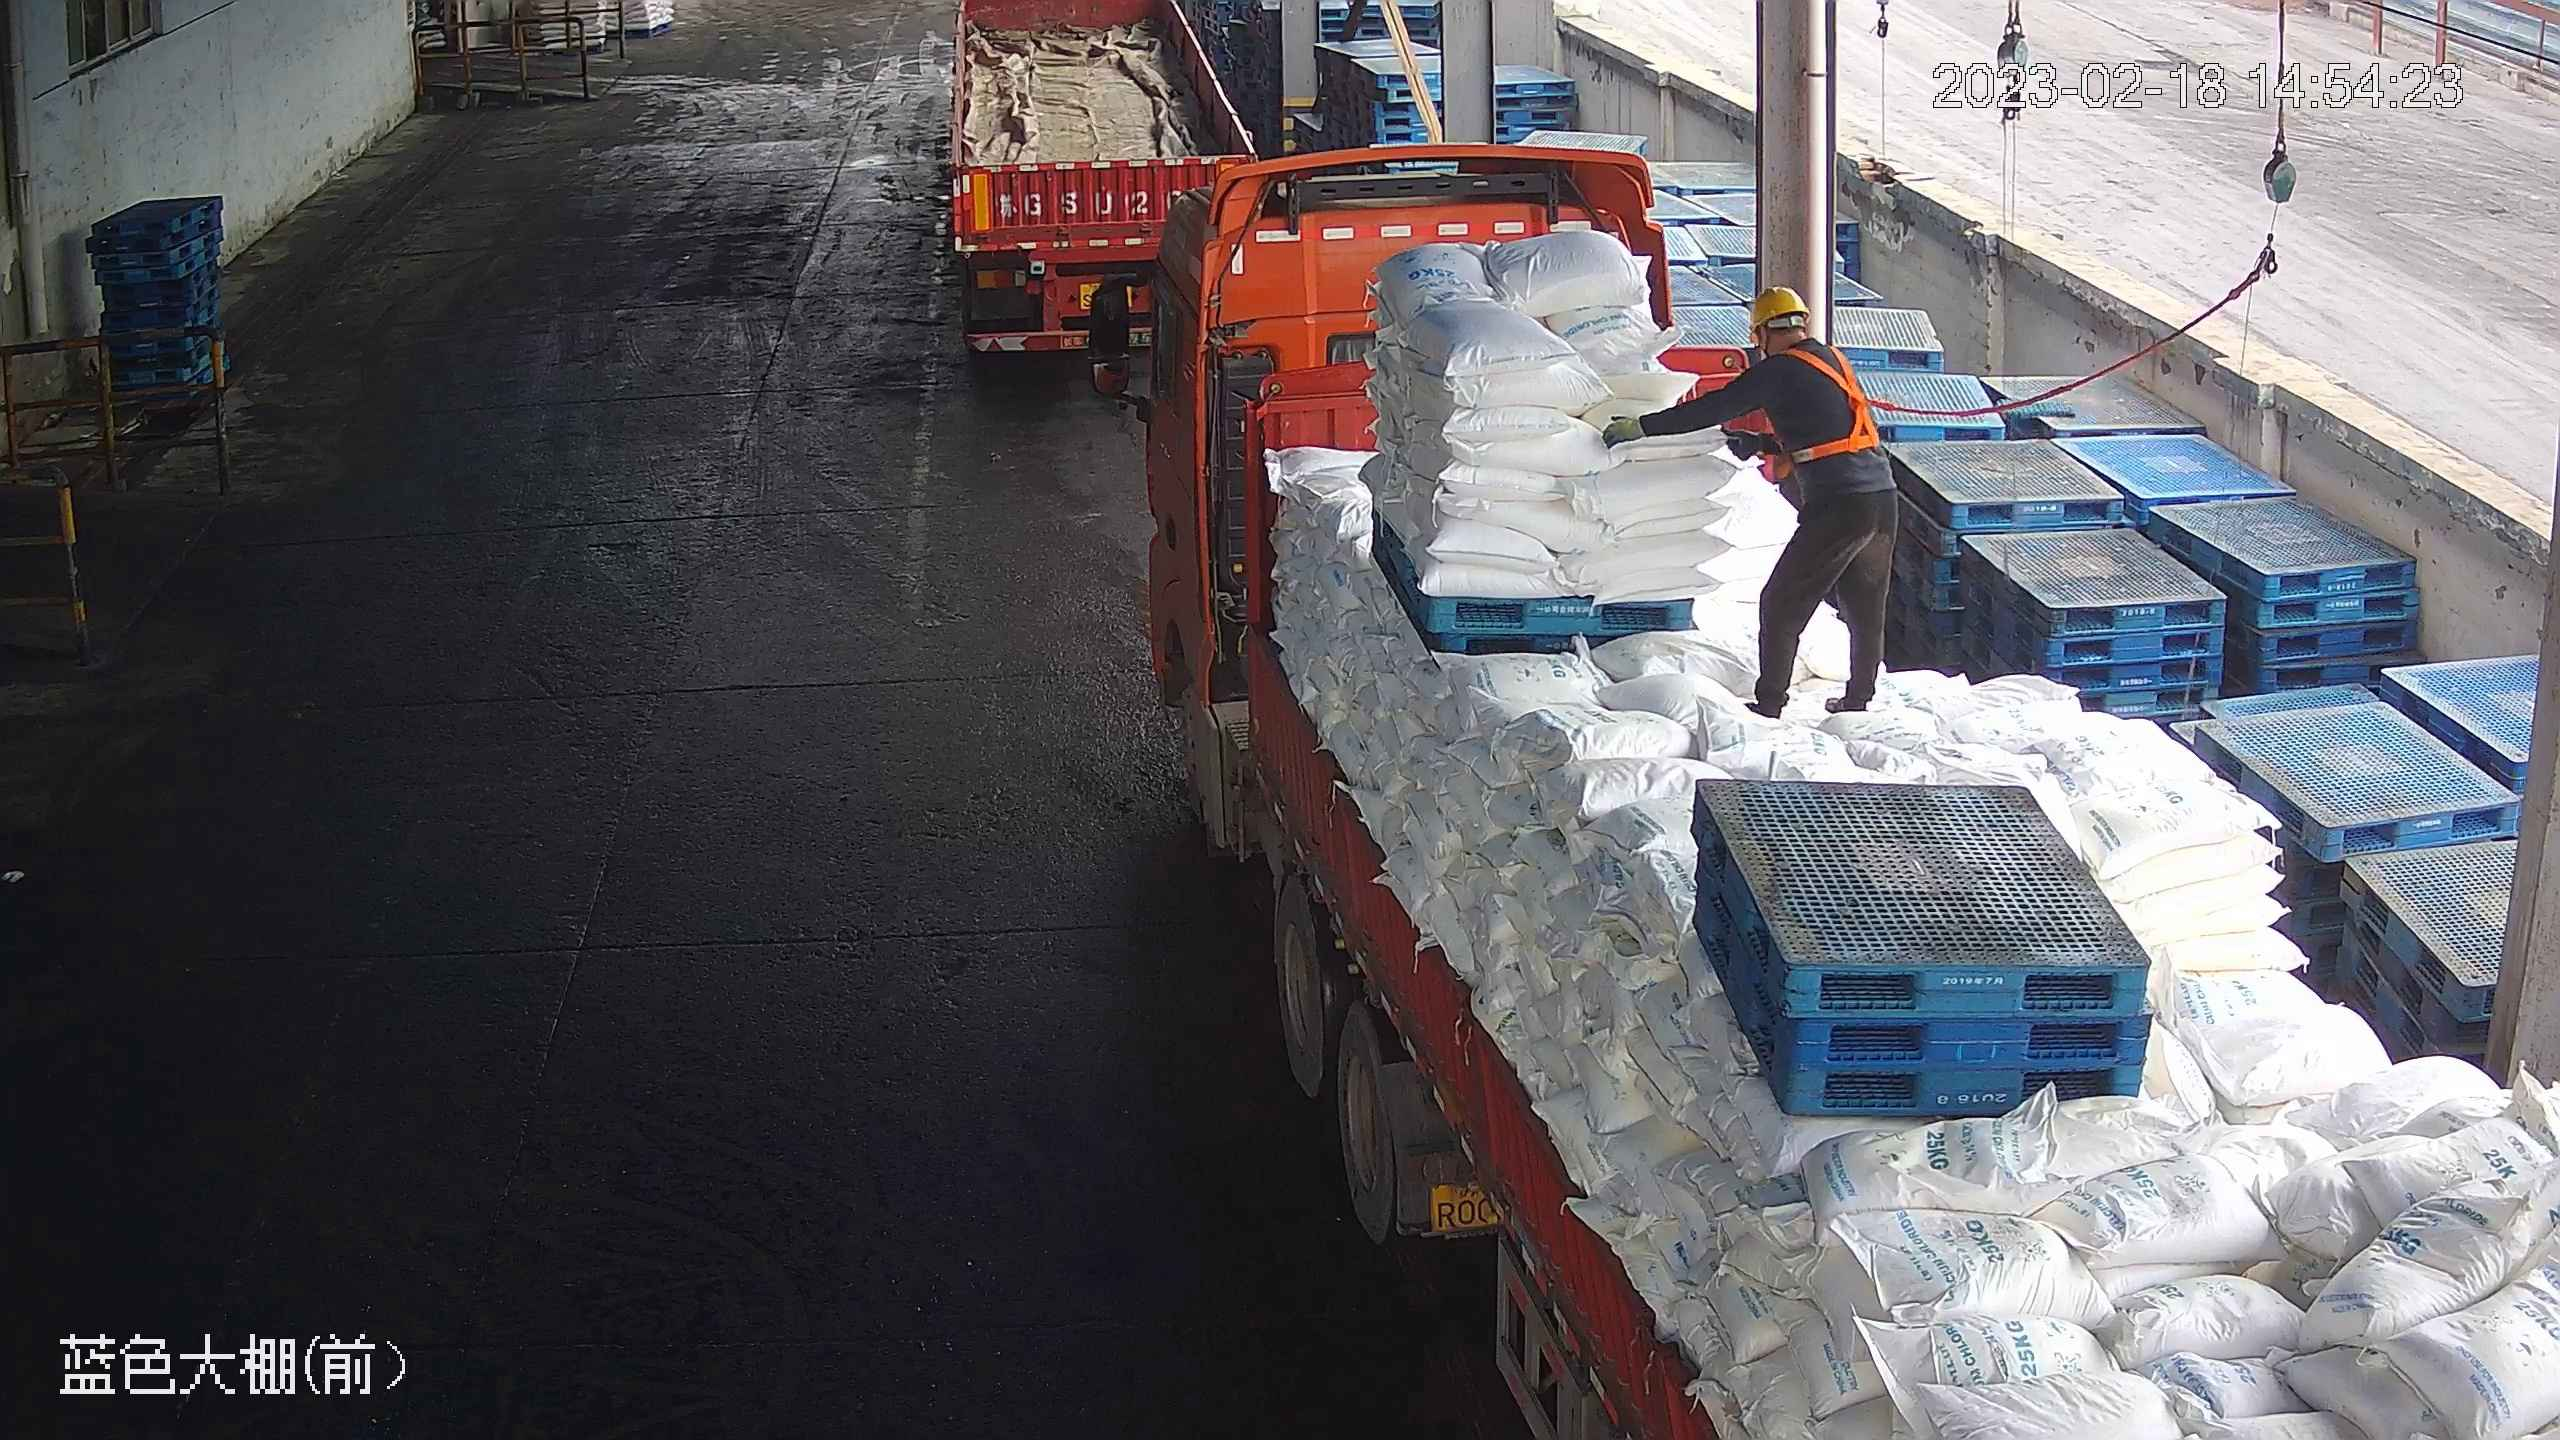belt: (1776, 338, 1889, 468)
head: (1729, 286, 1864, 407)
helmet: (1747, 285, 1811, 336)
people: (1601, 284, 1902, 719)
truck: (1065, 159, 2554, 1440), (920, 1, 1265, 345)
